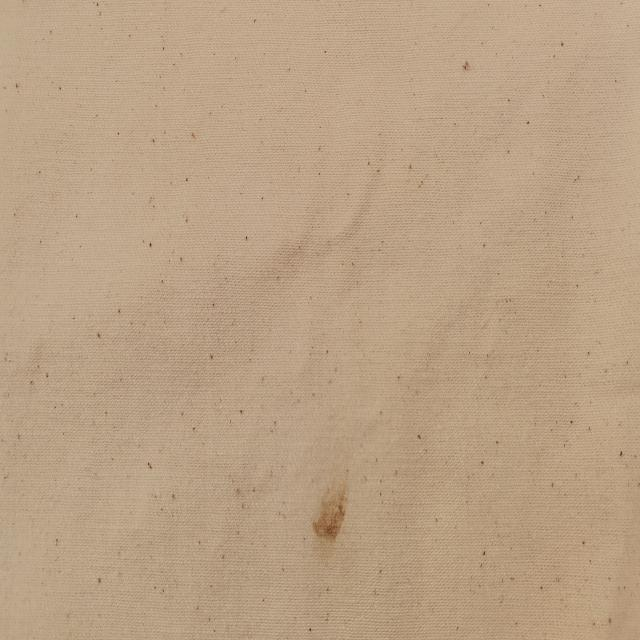taaaches: (307, 465, 352, 549)
